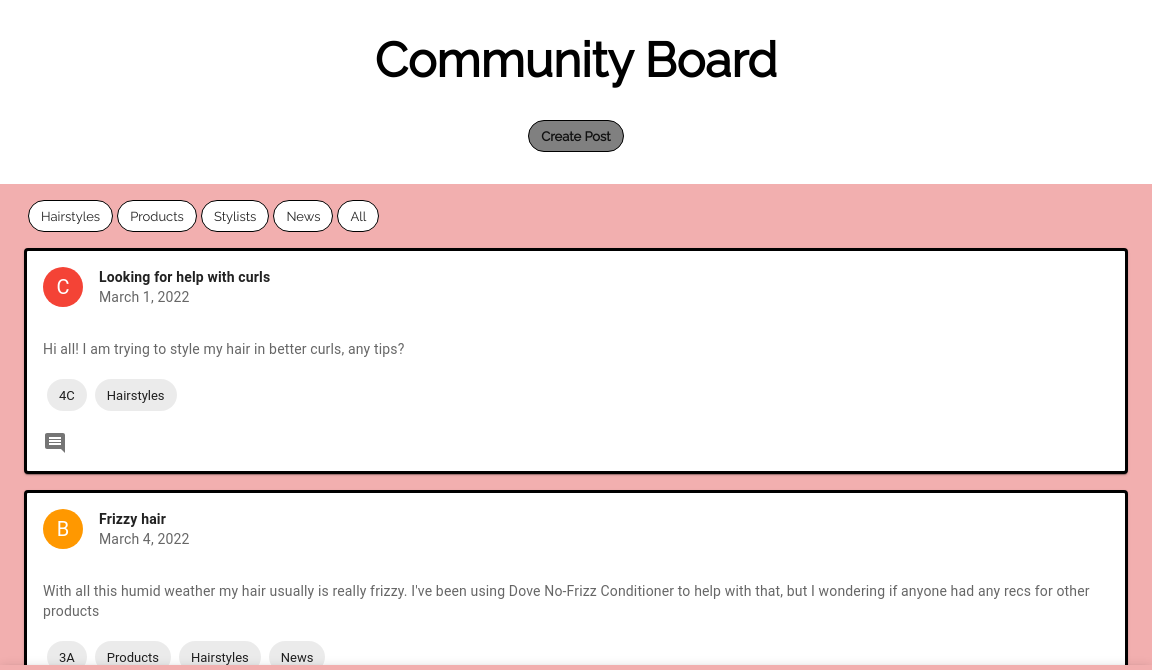
Test: Test Community Page › does not show all tests when filter active
Click the text "Stylists".
click(236, 217)  # box [214, 209, 257, 224]
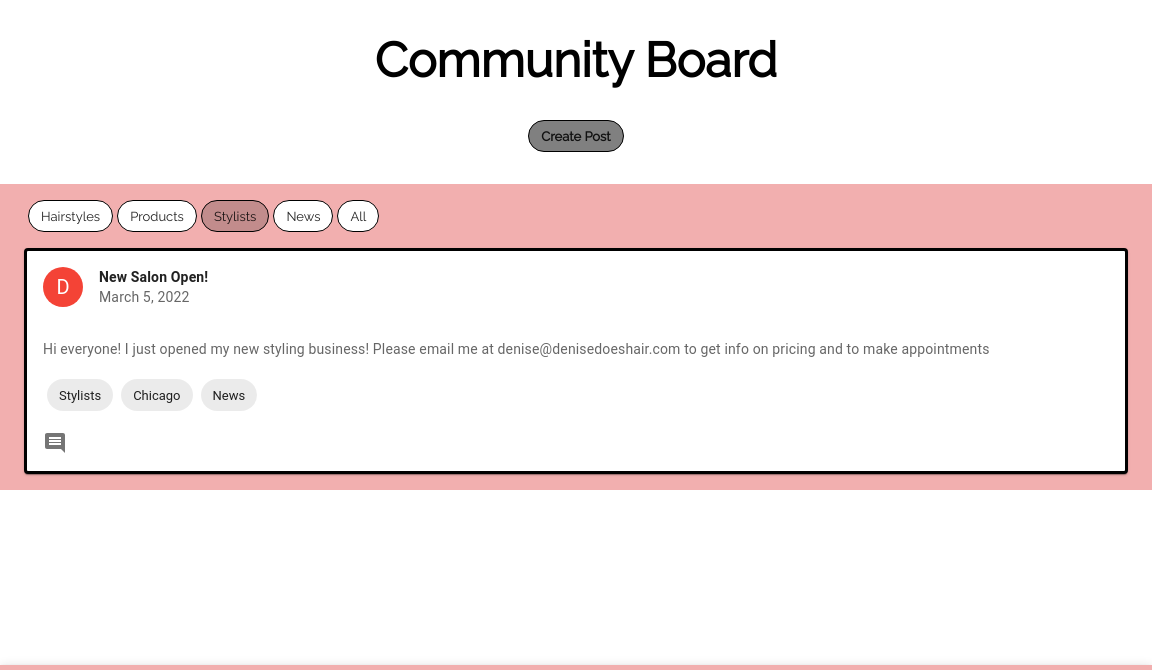
Now the number of elements with test id "post-card" is 1, box [24, 248, 1128, 474]
